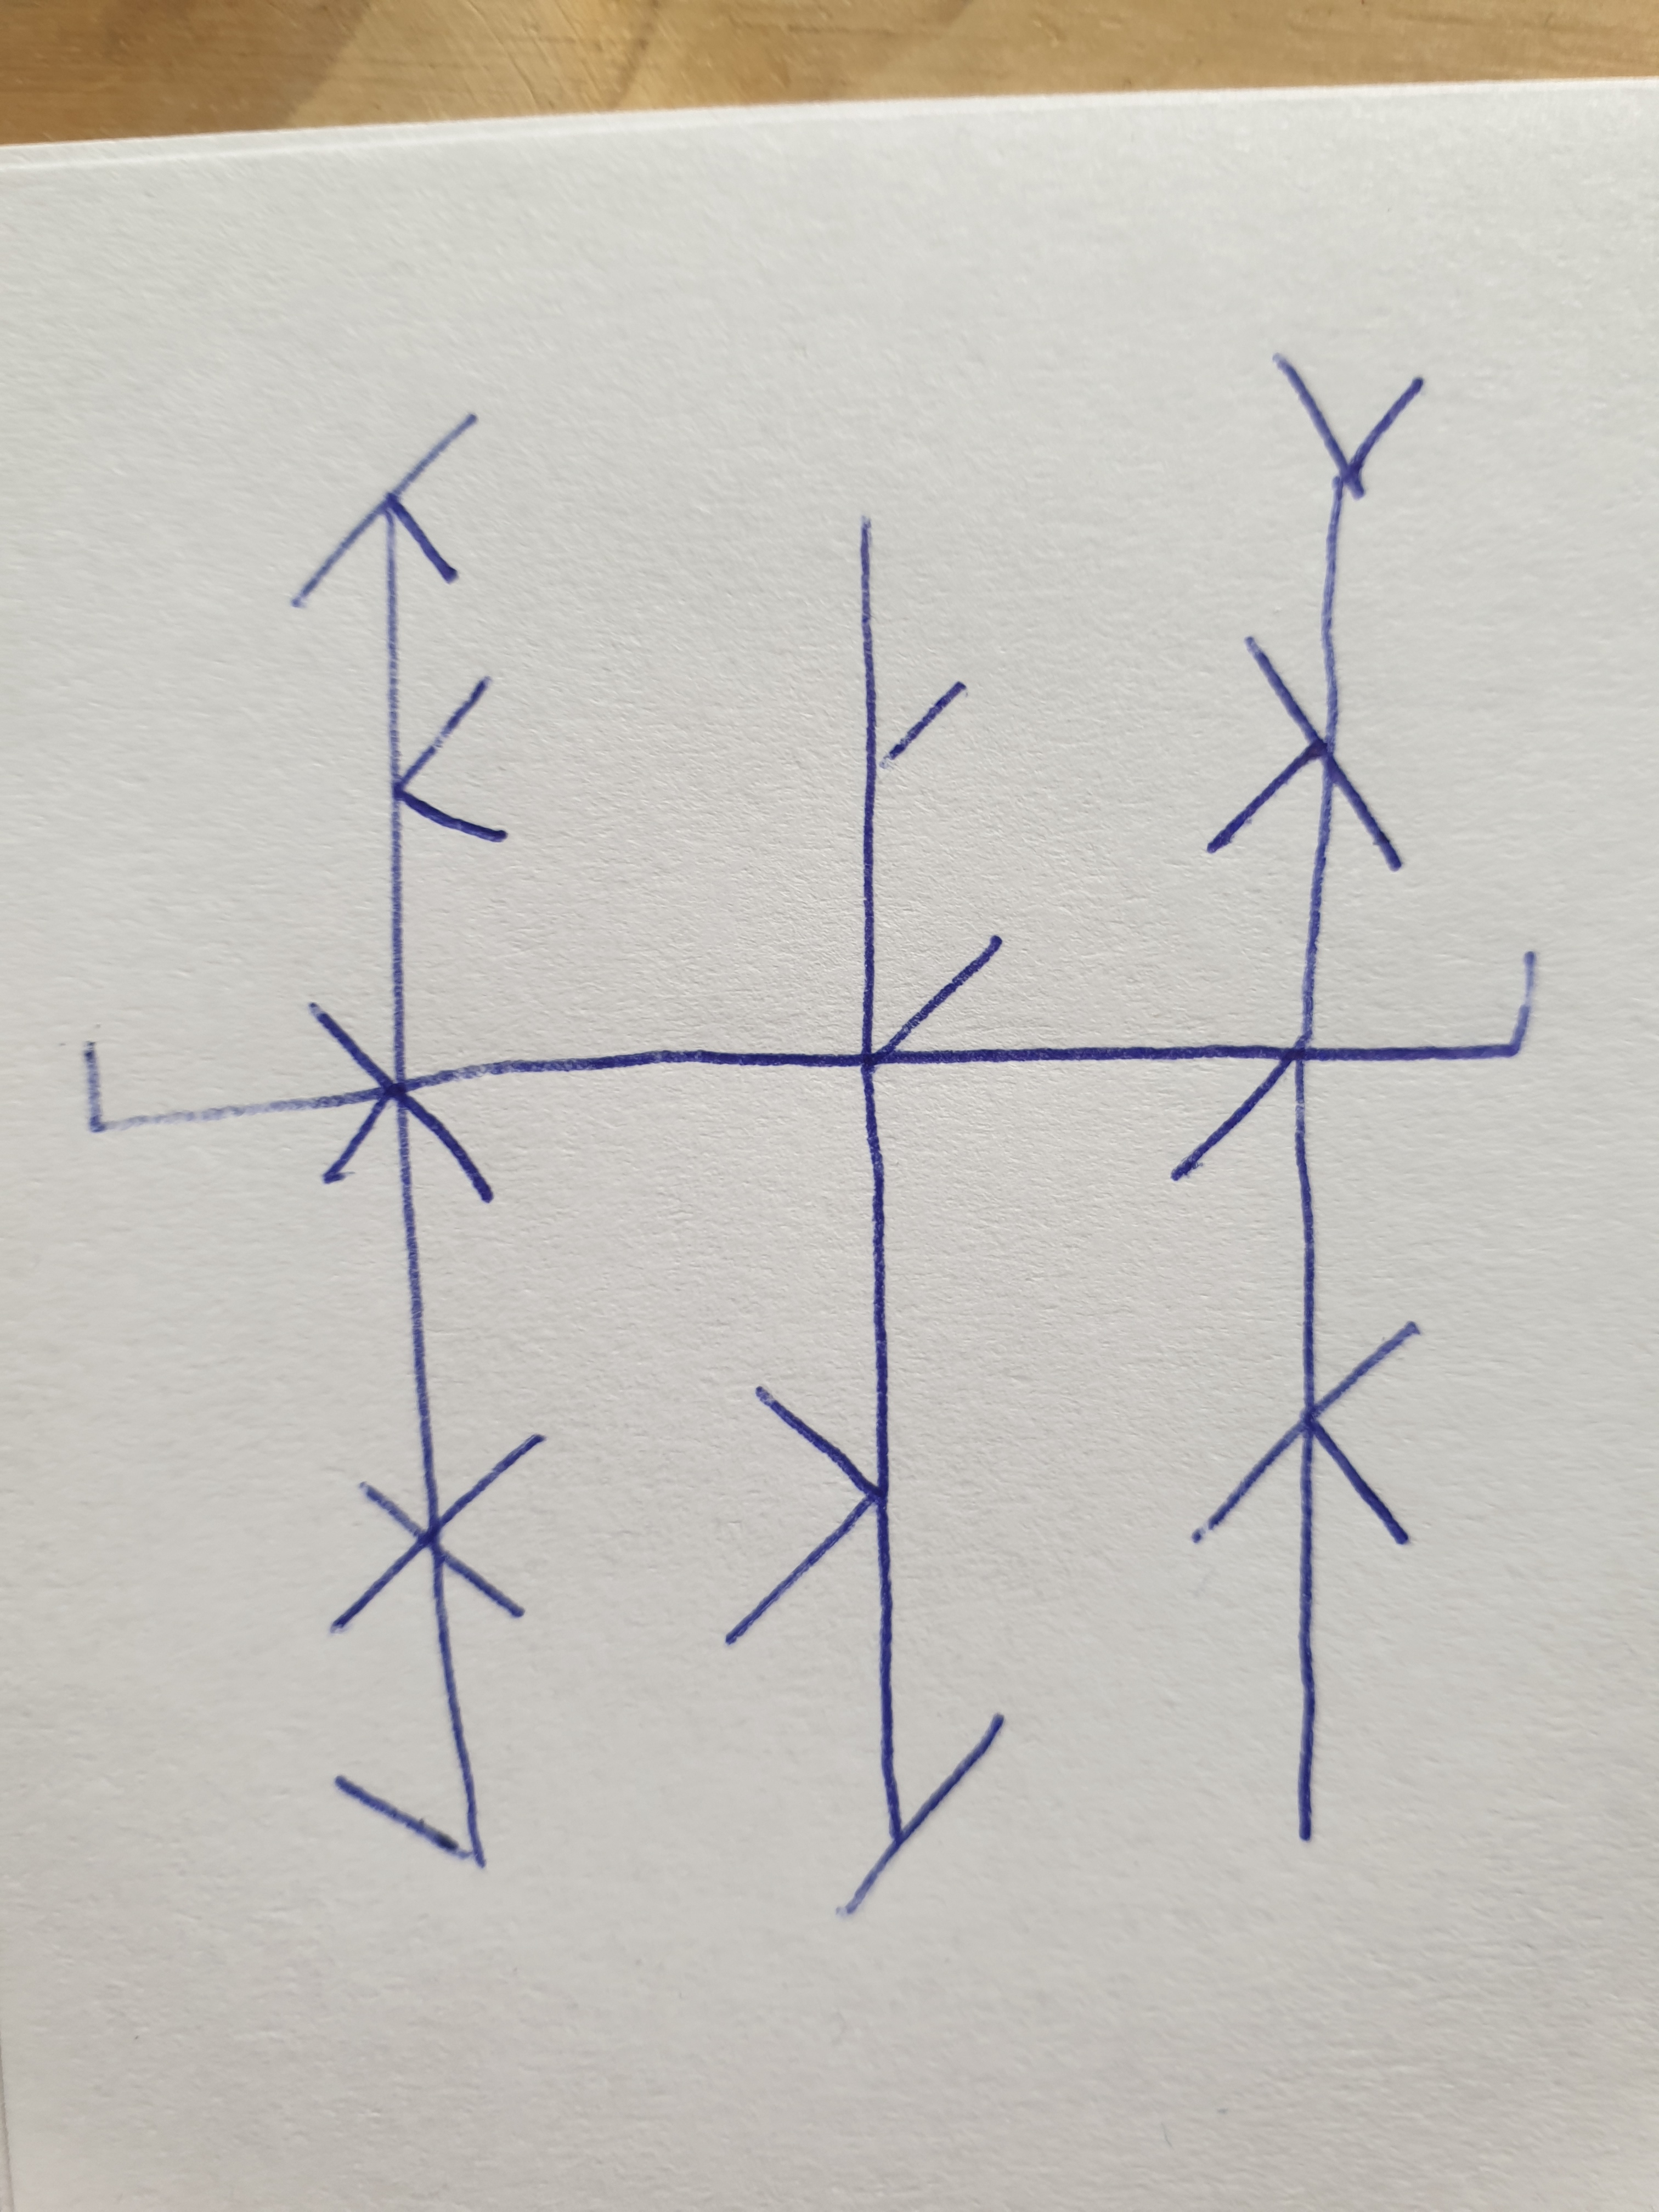Bar: (723, 510, 1009, 1918), (1168, 348, 1425, 1843), (293, 409, 549, 1871)
Barcode: (84, 347, 1537, 1918)
End: (1323, 951, 1537, 1068)
Start: (84, 1035, 322, 1136)
